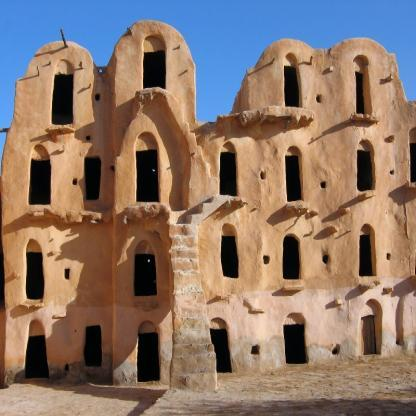Building Outline: (0, 20, 416, 393)
Facade: (5, 121, 416, 387)
Floor: (5, 216, 416, 302), (5, 135, 416, 210)
Floor Slab: (5, 302, 416, 308), (5, 210, 416, 216), (9, 129, 416, 135)
Ground Floor: (5, 308, 416, 387)
Top Floor: (16, 41, 196, 134), (247, 39, 399, 134)
Window: (136, 150, 160, 202), (137, 333, 160, 382), (51, 74, 73, 125), (28, 158, 51, 205), (25, 335, 49, 379), (209, 328, 232, 372), (283, 324, 307, 364), (135, 254, 157, 296), (26, 252, 44, 299), (143, 51, 165, 89), (219, 152, 237, 197), (284, 155, 301, 202), (283, 236, 300, 279), (85, 158, 102, 200), (221, 236, 238, 278), (84, 325, 101, 366), (357, 150, 373, 192), (283, 65, 299, 107), (361, 315, 376, 356), (359, 235, 373, 277), (355, 71, 364, 114)
Window Hole: (135, 131, 161, 203), (51, 59, 74, 125), (24, 320, 49, 379), (137, 320, 160, 382), (28, 144, 51, 205), (134, 239, 158, 296), (209, 318, 233, 372), (283, 313, 308, 364), (143, 35, 166, 90), (361, 299, 383, 356), (353, 55, 372, 116), (26, 239, 45, 300), (219, 141, 239, 198), (284, 146, 304, 202), (283, 53, 303, 107), (221, 223, 239, 278), (357, 139, 375, 192), (359, 223, 376, 277), (282, 234, 302, 279)
